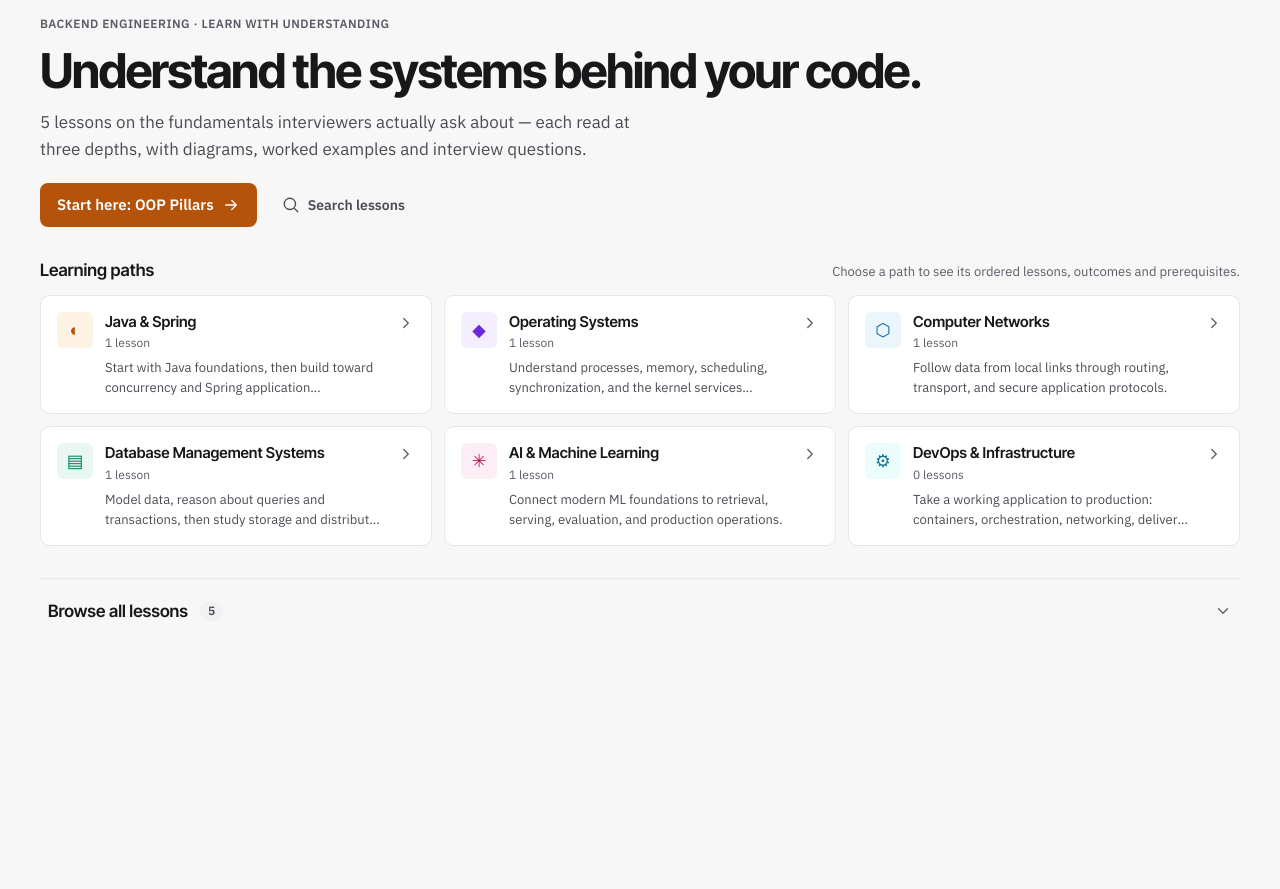
Test case: HomePage › filters a category, reports its count, and preserves the study link
What coordinates should you click on to do the following:
click the button "Browse all lessons 5"
I would click on:
 (118, 611)
Its box is [40,587,1240,635].
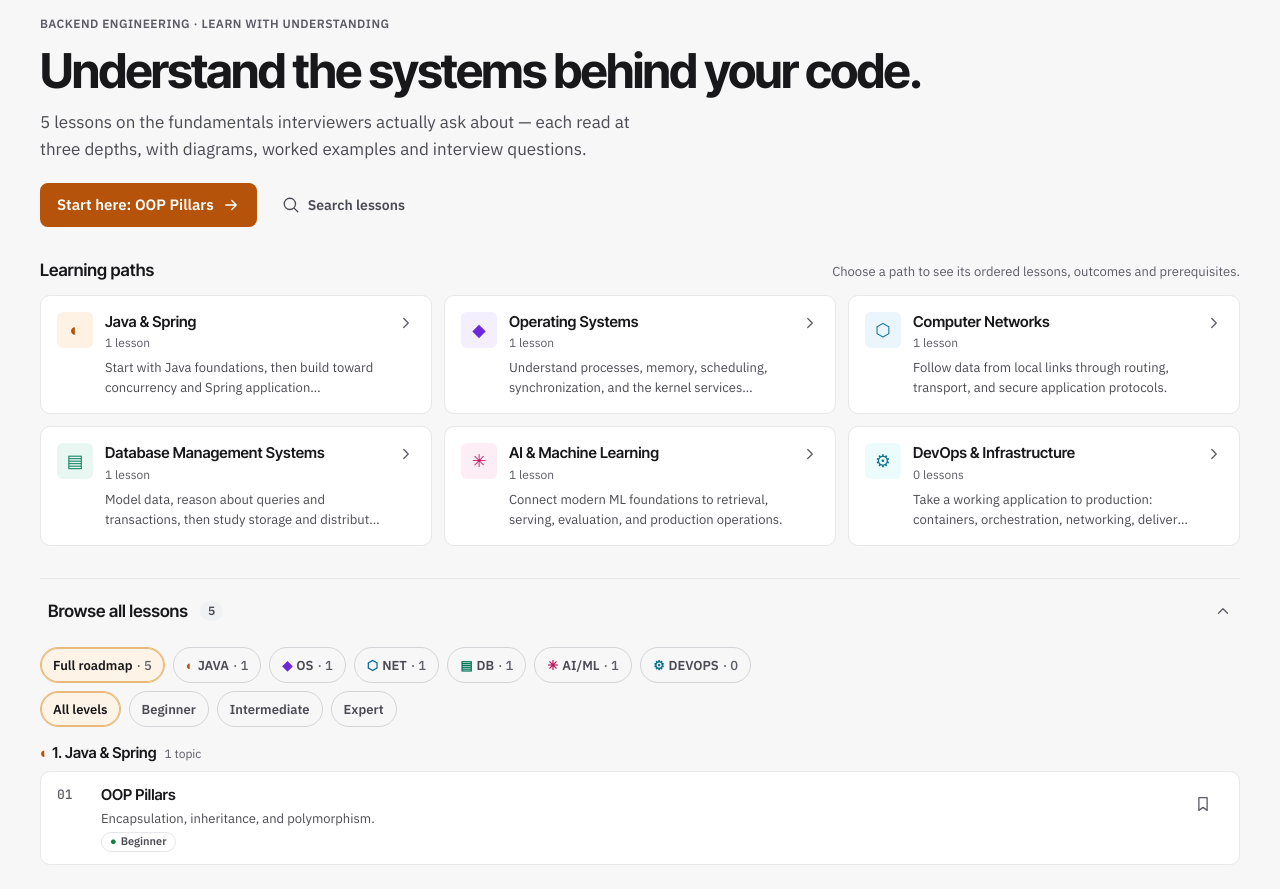
Now the link "OOP Pillars" is shown, box [101,785,176,804]
What coordinates should you click on to do the following:
click the button with aria-label "Operating Systems, 1 topic"
I would click on:
 (308, 665)
Its box is [269,647,346,683].
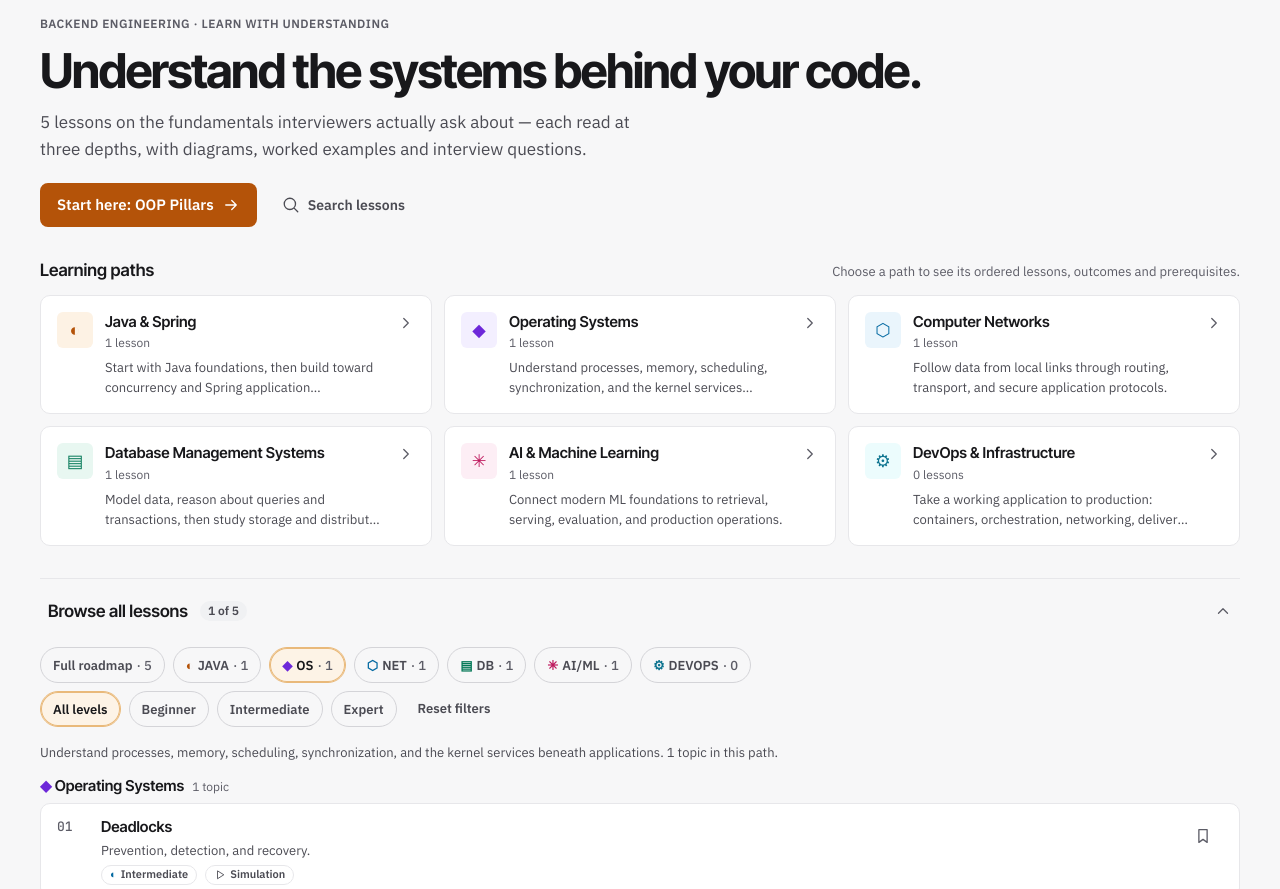
Now the link "Deadlocks" is shown, box [101,818,172,836]
Now the heading with id "os-heading" reads "◆ Operating Systems", box [40,776,184,796]
Now the text "1 topic in this path" is shown, box [40,744,778,761]
